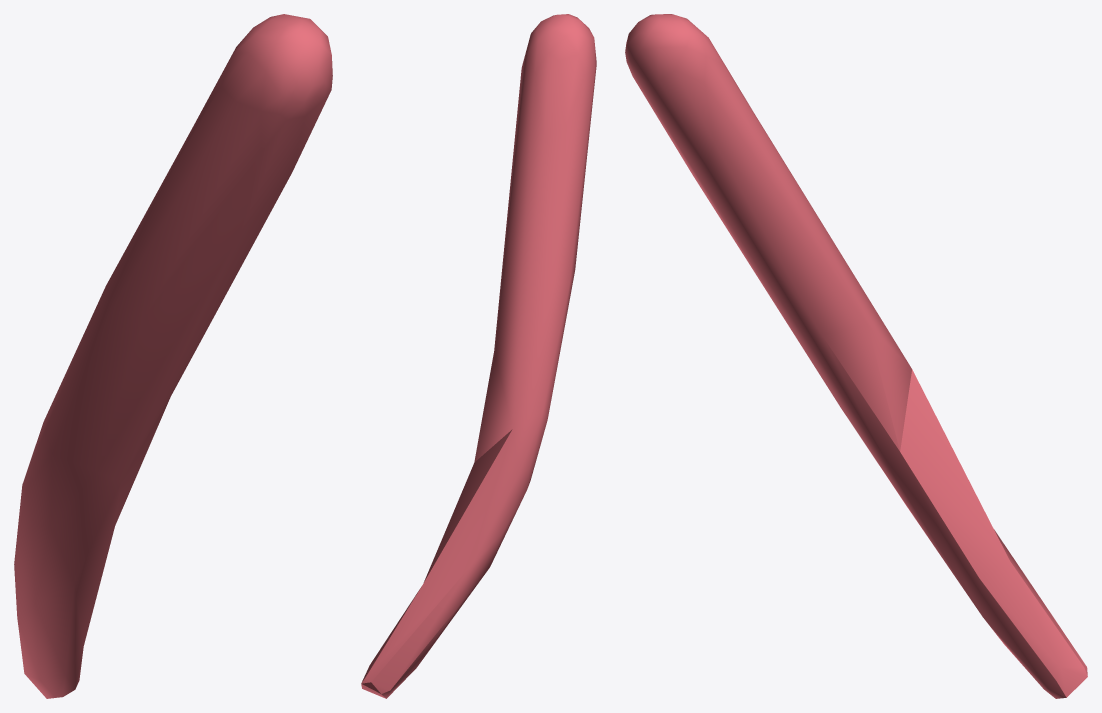
Rendered from fma13292_fj6015.glb.
3 views of the same model, side by side, from view 1: azimuth 30°, elevation 25°; view 2: azimuth 150°, elevation 25°; view 3: azimuth 270°, elevation 25° (orthographic). The views are drawn at different scales.
Visible parts, largest first — view 1: FMA13292_FJ6015; view 2: FMA13292_FJ6015; view 3: FMA13292_FJ6015.
Boxes of the visible parts, x1,y1,x2,y2 form: FMA13292_FJ6015: (14, 14, 332, 698); FMA13292_FJ6015: (361, 14, 596, 698); FMA13292_FJ6015: (625, 14, 1087, 698).
Bounding box in the file's own units: 0.00388 × 0.0207 × 0.0129.
